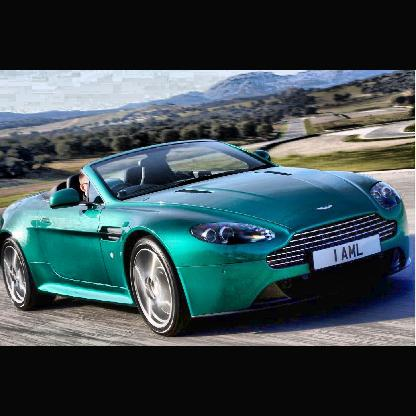Aston Martin V8 Vantage Convertible 2012: (1, 138, 414, 338)
